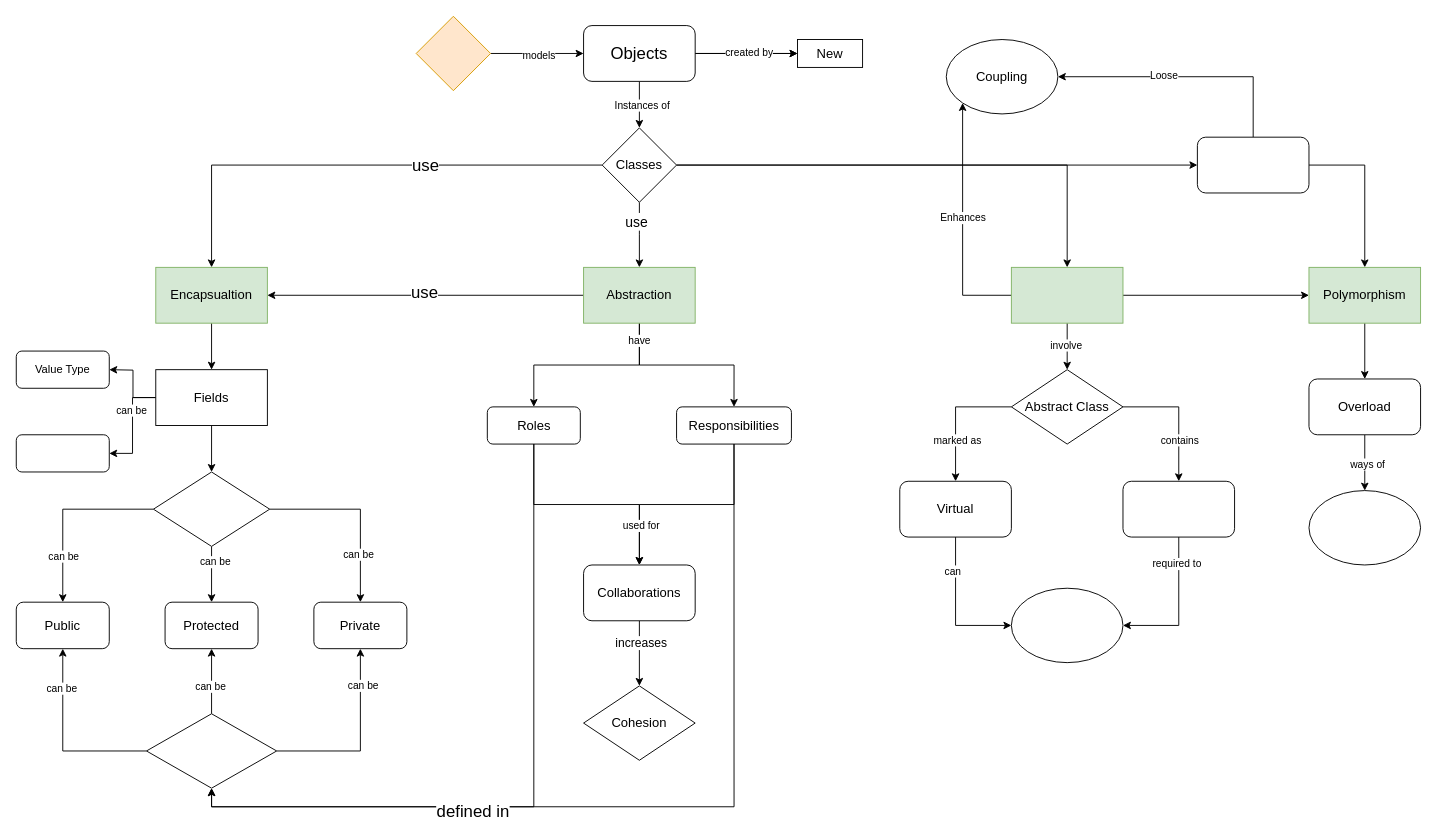
This 1437x837 diagram has some shape labels left out. The centre of each missing label's shape, as x and y in pixels:
Abstract Method: [1178,508]
Inheritance: [1066,294]
Interfaces: [1252,164]
Method Call: [1364,527]
Methods: [211,750]
OOP: [453,53]
Override: [1066,625]
Properties: [211,508]
Reference Type: [62,453]
